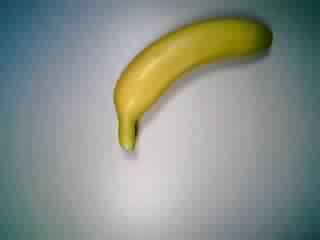banana: (108, 10, 278, 155)
